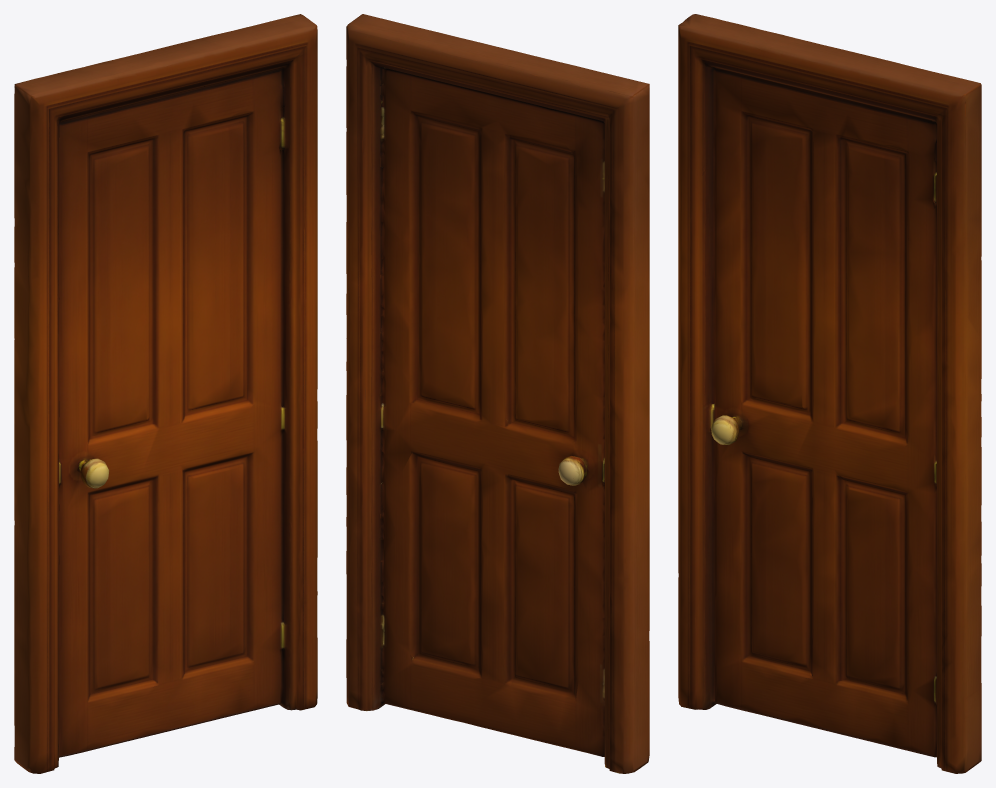
The model's file is Meshy_AI_Closed_Passageway_0108004352_texture.fbx.
The picture shows the model from 3 angles, left to right: view 1: azimuth 30°, elevation 25°; view 2: azimuth 150°, elevation 25°; view 3: azimuth 330°, elevation 25°; orthographic projection.
Visible parts, largest first — view 1: Mesh_0; view 2: Mesh_0; view 3: Mesh_0.
Part boxes in pixels (x1,y1,x2,y2): Mesh_0: [14, 14, 317, 773]; Mesh_0: [346, 14, 649, 773]; Mesh_0: [678, 14, 981, 773].
Size of the model in its own units: 84.9 by 191 by 22.08.
1 material, 1 textured.
